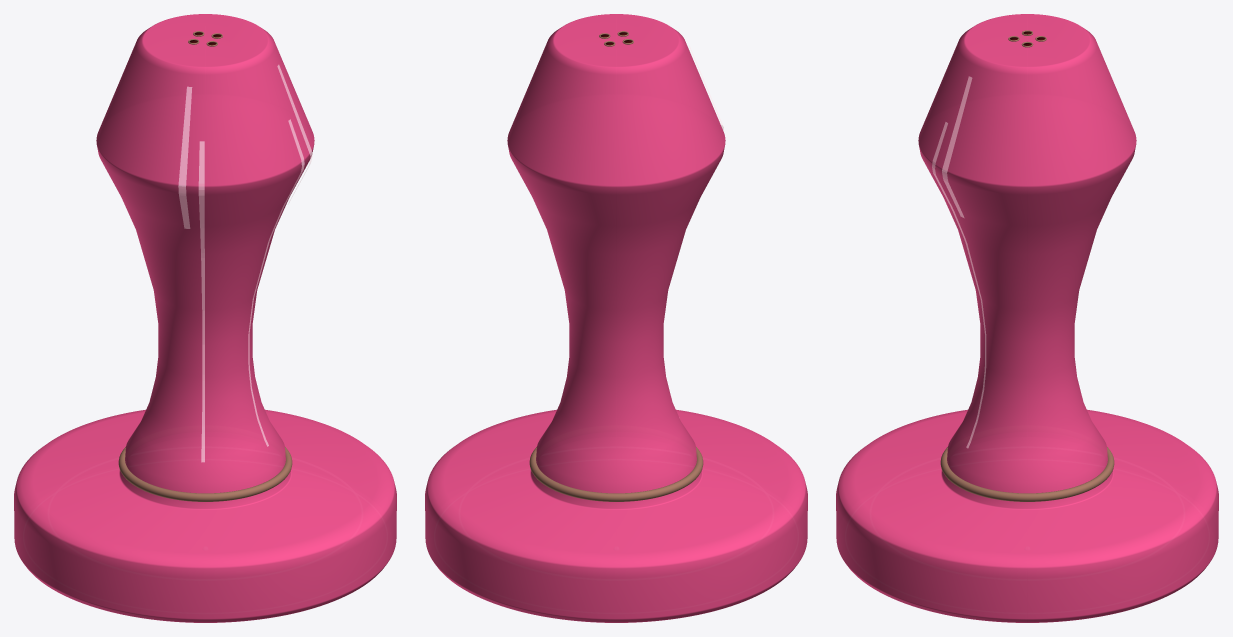
File: stamp_scene.glb
3 views of the same model, side by side, from view 1: azimuth 30°, elevation 25°; view 2: azimuth 150°, elevation 25°; view 3: azimuth 270°, elevation 25° (orthographic).
Parts seen in each view (by area): view 1: StampRoot_RevolvedFromGreenLine, StampNeck_RoseGoldRing, Highlight_Body_Left_Long, Highlight_Head_Left, Highlight_Body_Right_Long; view 2: StampRoot_RevolvedFromGreenLine, StampNeck_RoseGoldRing; view 3: StampRoot_RevolvedFromGreenLine, StampNeck_RoseGoldRing, Highlight_Body_Right_Long, Highlight_Head_Right.
Boxes of the visible parts, x1,y1,x2,y2 form: StampRoot_RevolvedFromGreenLine: [14, 14, 396, 622]; StampNeck_RoseGoldRing: [118, 447, 292, 501]; Highlight_Body_Left_Long: [198, 141, 204, 462]; Highlight_Head_Left: [178, 86, 192, 228]; Highlight_Body_Right_Long: [248, 119, 304, 446]; StampRoot_RevolvedFromGreenLine: [425, 14, 807, 622]; StampNeck_RoseGoldRing: [529, 447, 703, 501]; StampRoot_RevolvedFromGreenLine: [836, 14, 1218, 622]; StampNeck_RoseGoldRing: [940, 447, 1114, 501]; Highlight_Body_Right_Long: [932, 122, 986, 448]; Highlight_Head_Right: [942, 76, 972, 217].
Bounding box in the file's own units: 3.1 × 4.59 × 3.1.
